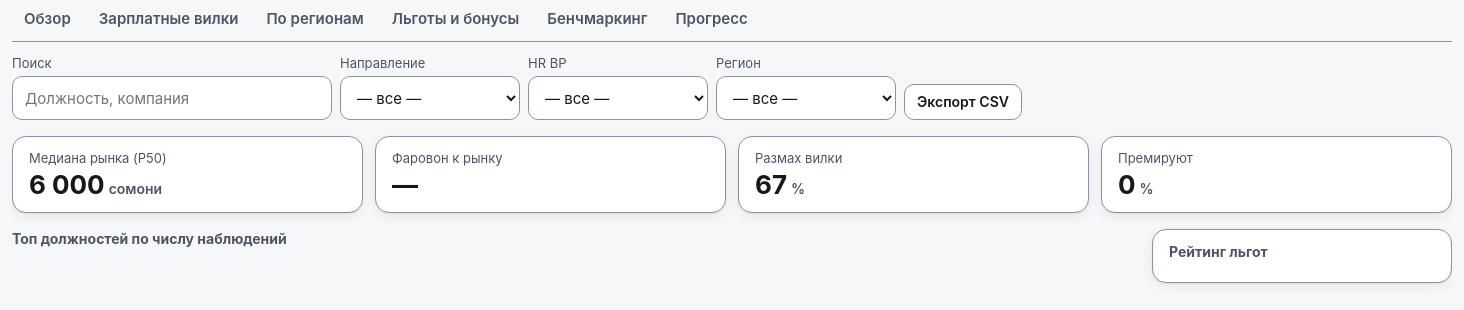
Test: с benchmarks:view вкладка «Бенчмаркинг» видна и открывается
Expected: the text "Медиана рынка (P50)" is shown, [29, 150, 167, 166]
Click the link "Бенчмаркинг" at (597, 18), box [547, 9, 648, 28]
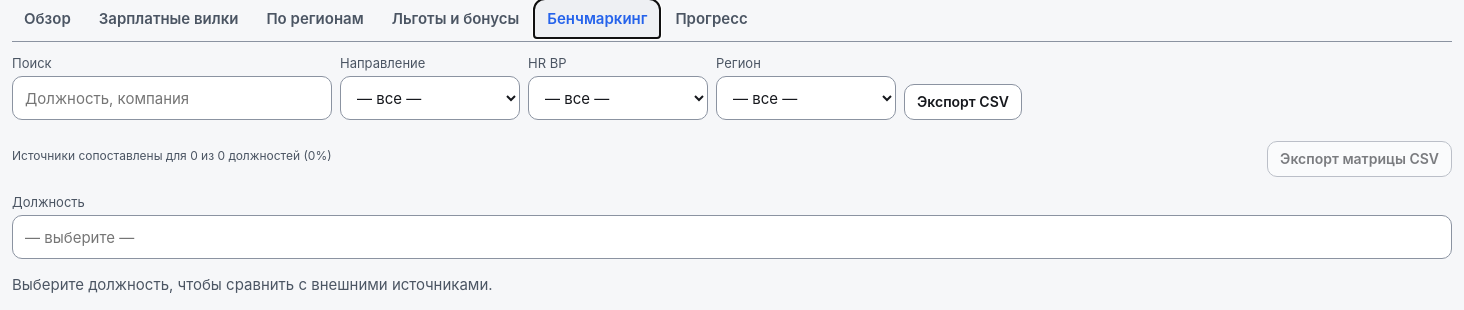
Result: the dropdown labelled "Должность" is shown at [12, 215, 1452, 259]
